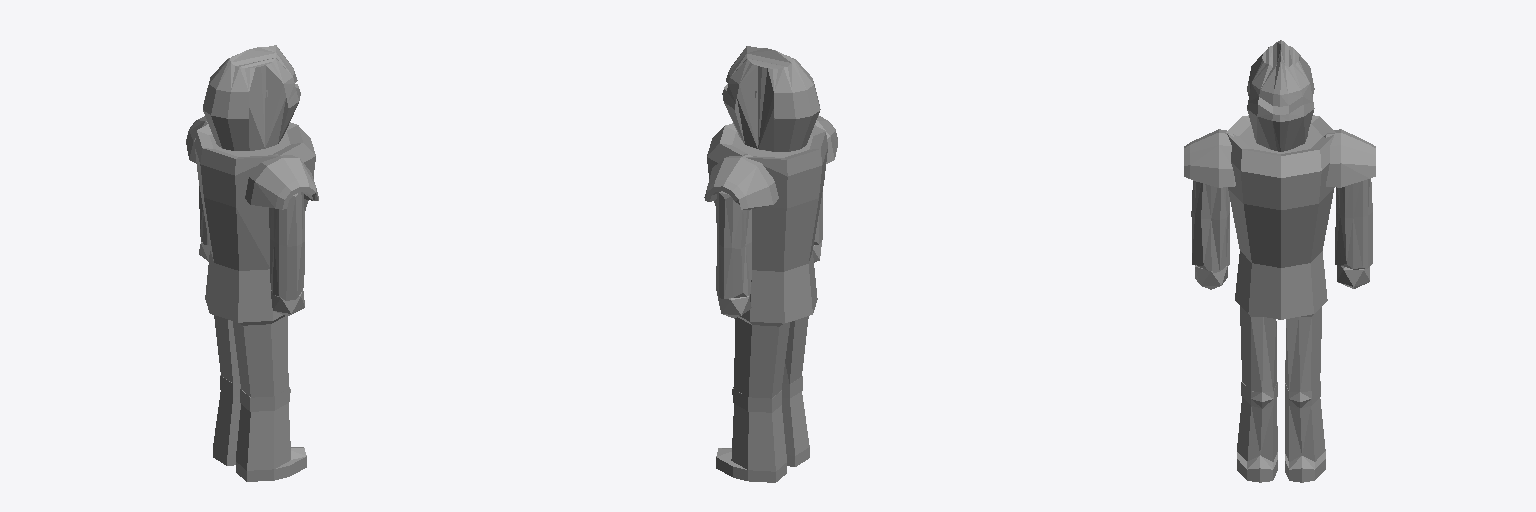
Rendered from knight.obj.
The picture shows the model from 3 angles: view 1: azimuth 30°, elevation 25°; view 2: azimuth 150°, elevation 25°; view 3: azimuth 270°, elevation 25°; orthographic projection.
Parts seen in each view (by area): view 1: Cylinder.002_Cylinder.005; view 2: Cylinder.002_Cylinder.005; view 3: Cylinder.002_Cylinder.005.
Part boxes in pixels (x1,y1,x2,y2): Cylinder.002_Cylinder.005: (186,45,318,481); Cylinder.002_Cylinder.005: (704,46,837,482); Cylinder.002_Cylinder.005: (1184,40,1375,482).
Bounding box in the file's own units: 2.27 × 8.2 × 3.44.